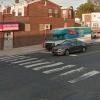Crosswalk: (2, 47, 96, 91)
